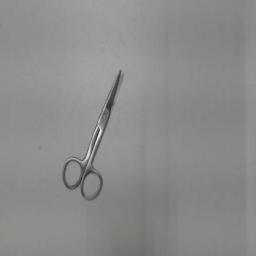Dressing Scissors: (56, 59, 132, 209)
